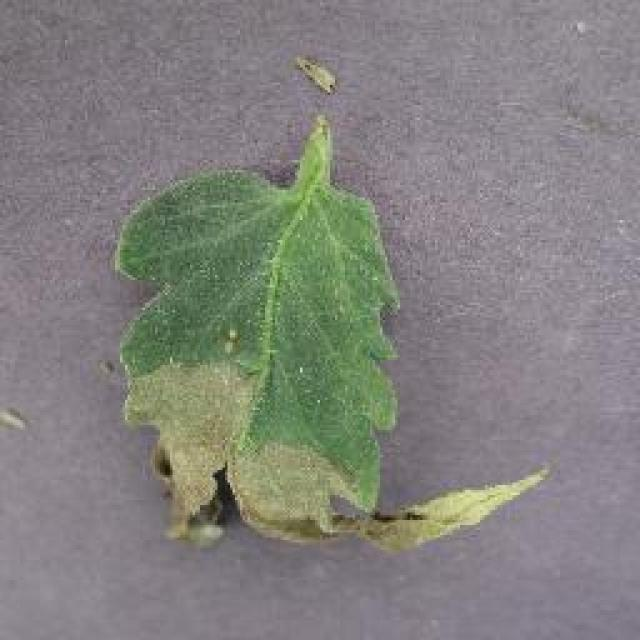Tomato___Late_blight: (112, 118, 545, 550)
